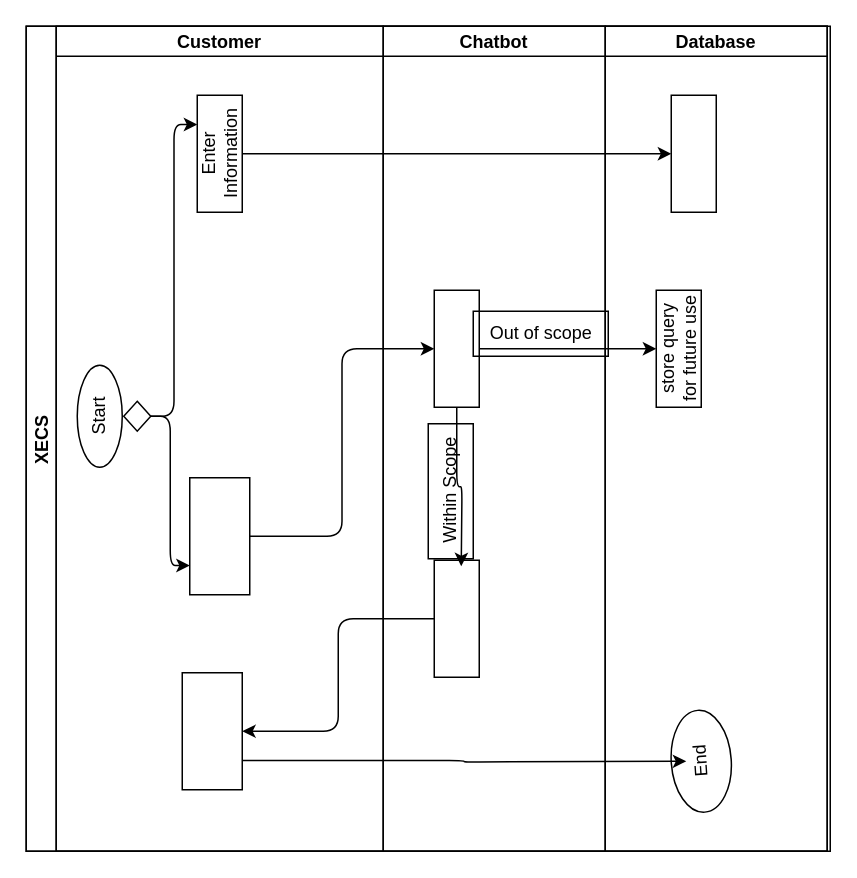
Image size: 857x878. Some labels were removed from this diagram. The shapes that lost their labels are listed below. From the top down, each one's centre as x and y in pixels, then its label:
(693,153): Store In Database
(456,348): Response Selector
(219,535): Enter Question
(456,618): Response Generator
(211,730): Display Response
